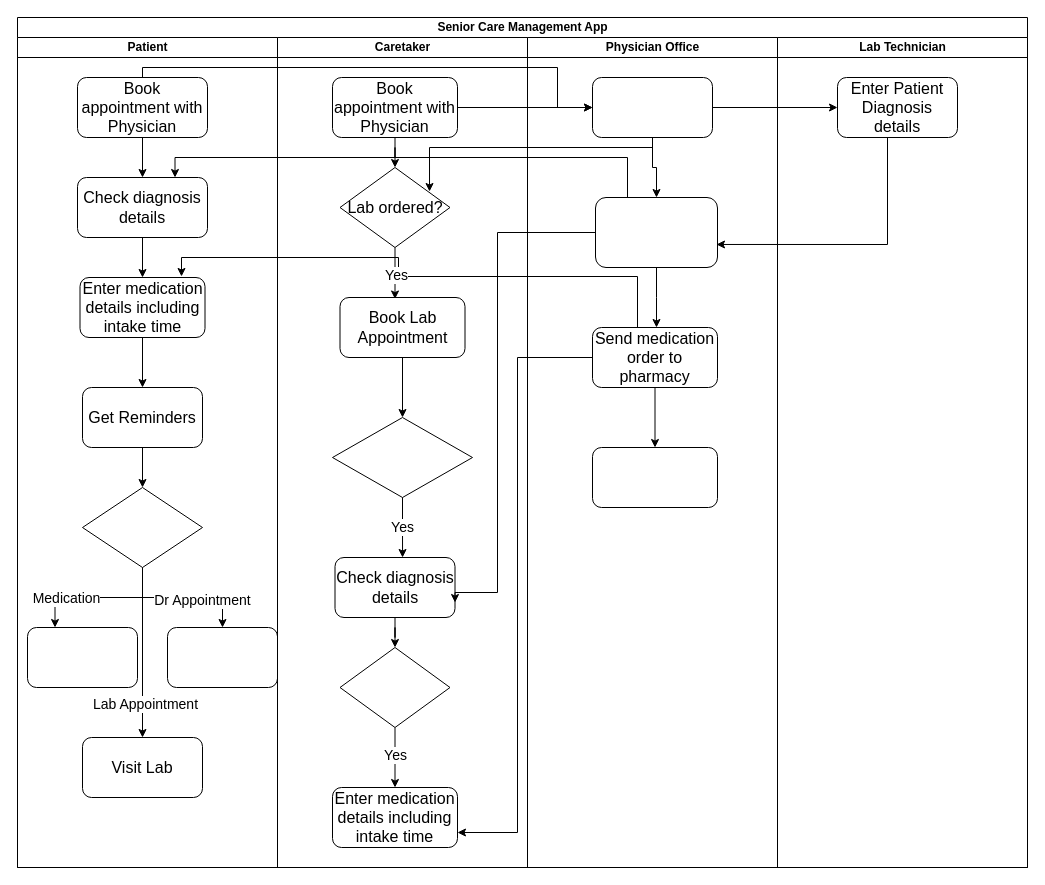
Some shapes in this 1045 by 885 pixel diagram are drawn without their labels. The shapes that lost their labels are listed below. From the top down, each one's centre as x and y in pixels, then its label:
At point (652, 107): "Send lab order to Laboratory".
At point (656, 232): "Nurse Practitioner enters diagnosis details".
At point (402, 457): "Diagnosis Info Access?".
At point (655, 477): "Front-desk schedules follow-up visit".
At point (142, 527): "Reminder Type".
At point (82, 657): "Take medication".
At point (222, 657): "Visit doctor office".
At point (394, 687): "Medication Info Access?".
